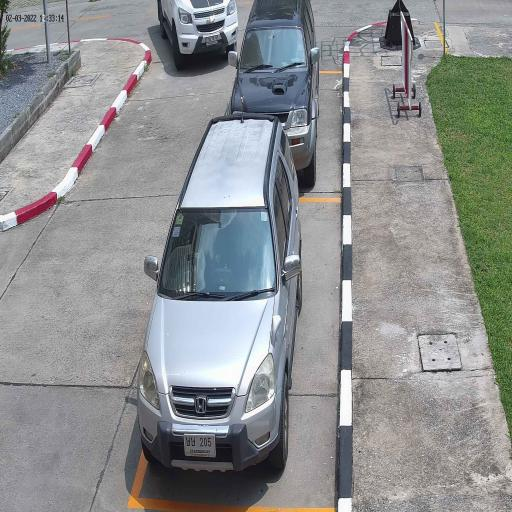car: (136, 113, 304, 479), (229, 0, 321, 194), (155, 0, 241, 72)
